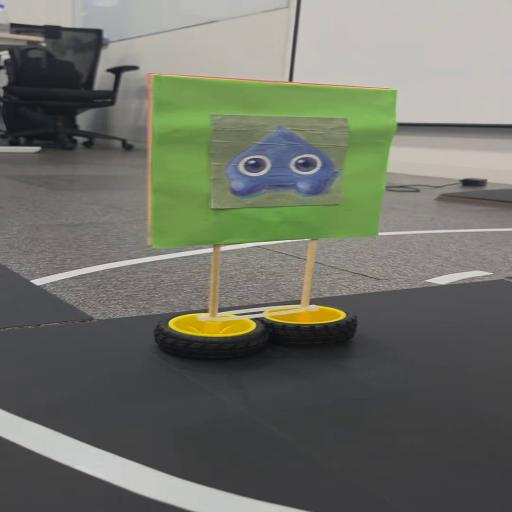Sign_B: (138, 70, 408, 361)
